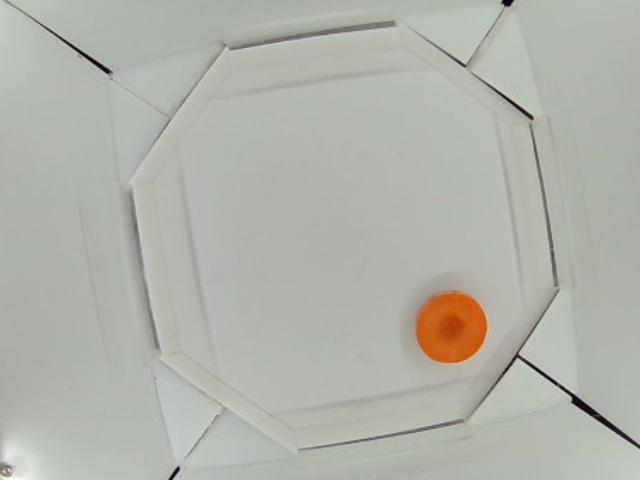Carrot: (418, 292, 488, 360)
